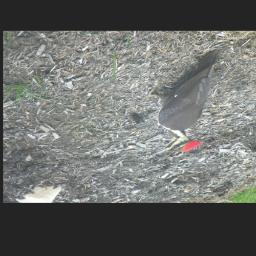Woodpecker: (142, 50, 227, 158)
